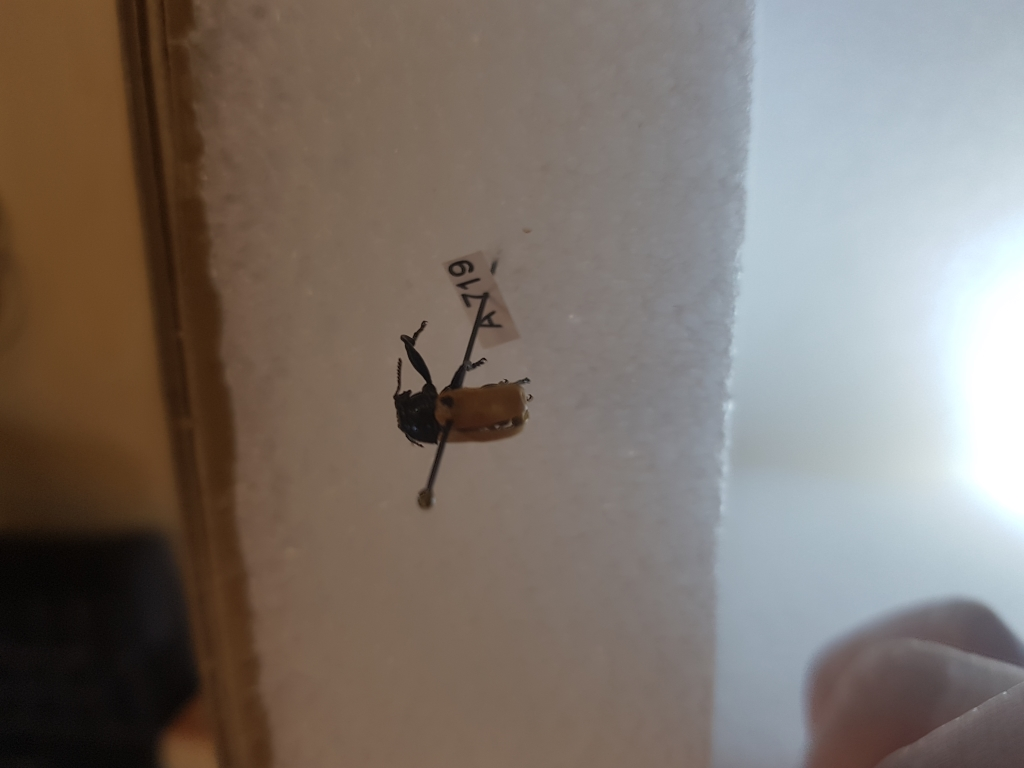Labidostomis_propinqua: (352, 315, 554, 444)
